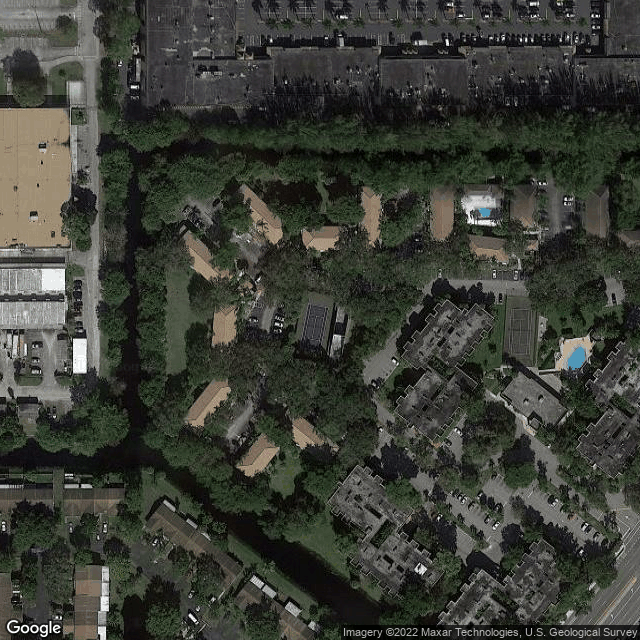Court: (300, 303, 328, 355)
